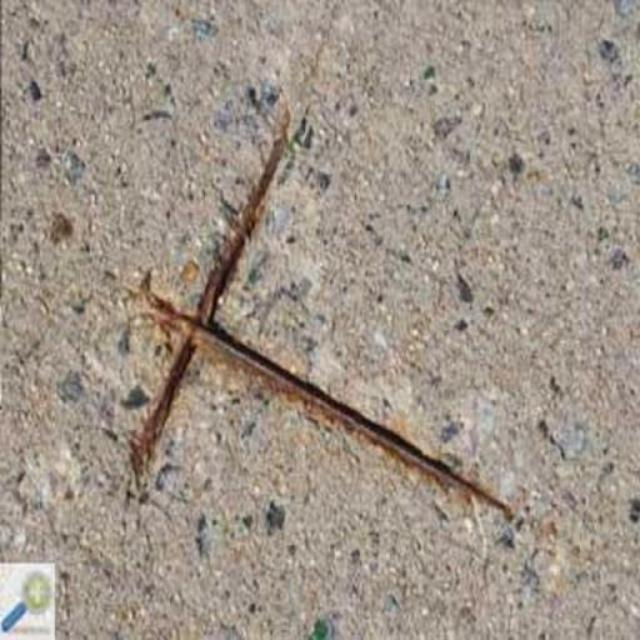D0w0: (110, 101, 523, 531)
